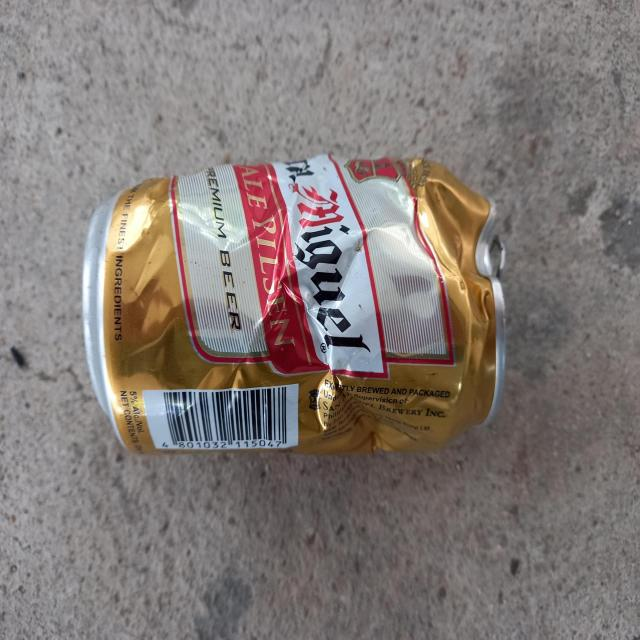can: (82, 154, 506, 454)
